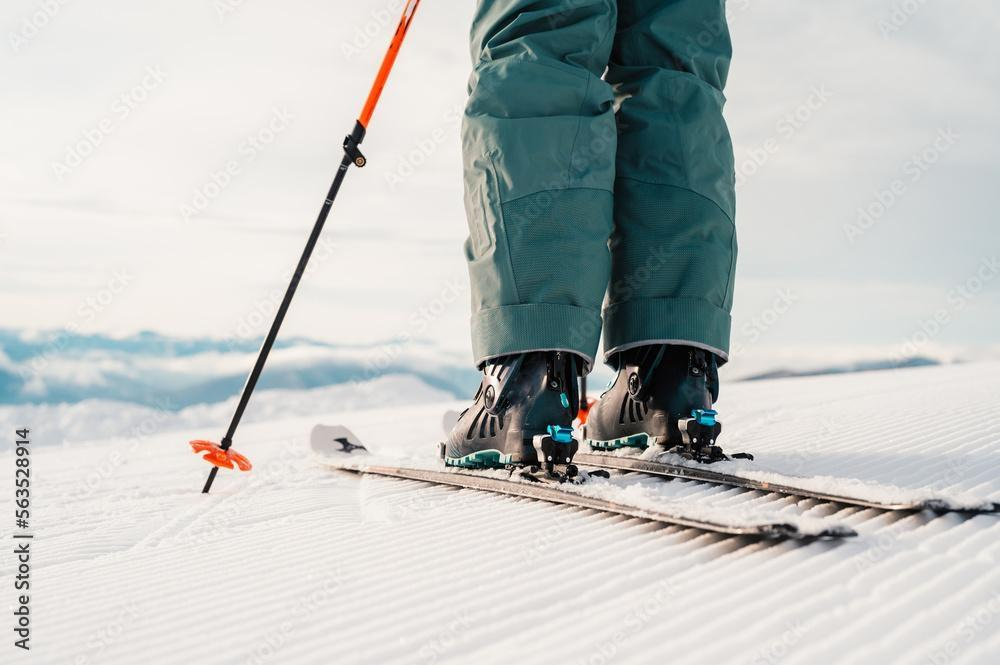Skis: (305, 399, 1000, 574)
